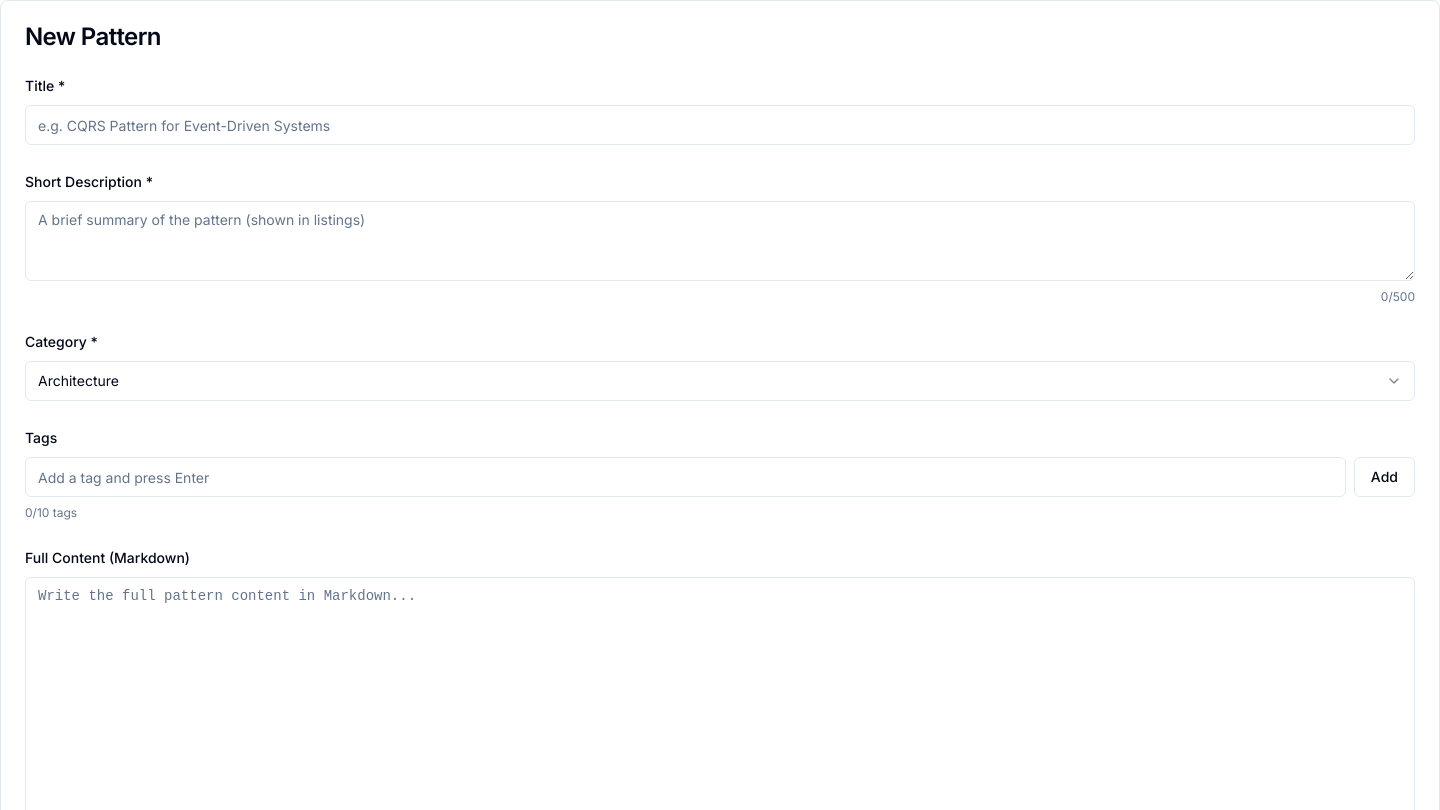
Test: PatternForm — create mode › shows slug preview when title is typed
This screenshot has width=1440, height=810.
Type "My New Pattern" into the field labelled "Title *" at (720, 125), box [25,105,1415,145]
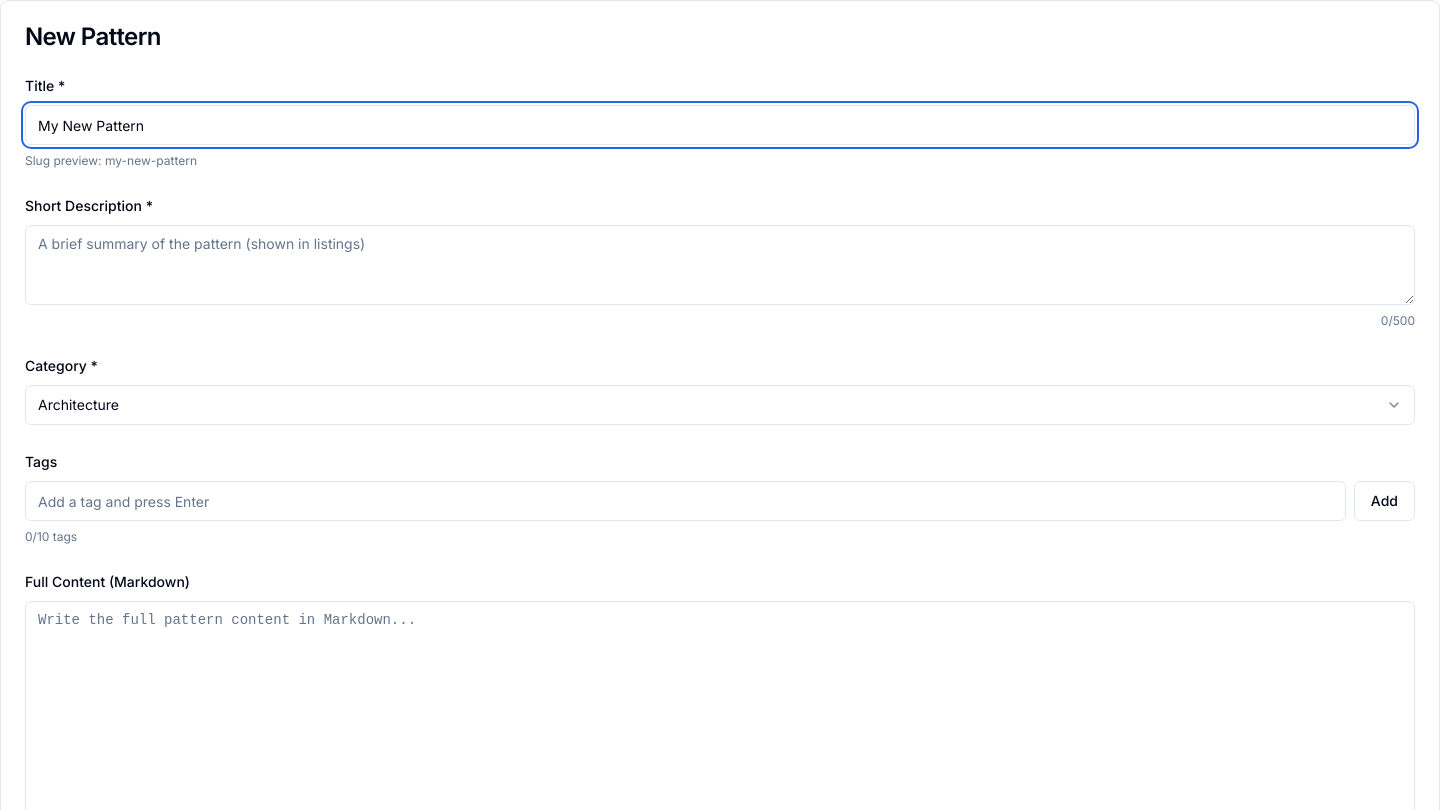
Check: the text "Slug preview: my-new-pattern" is shown, box [25,153,197,168]
